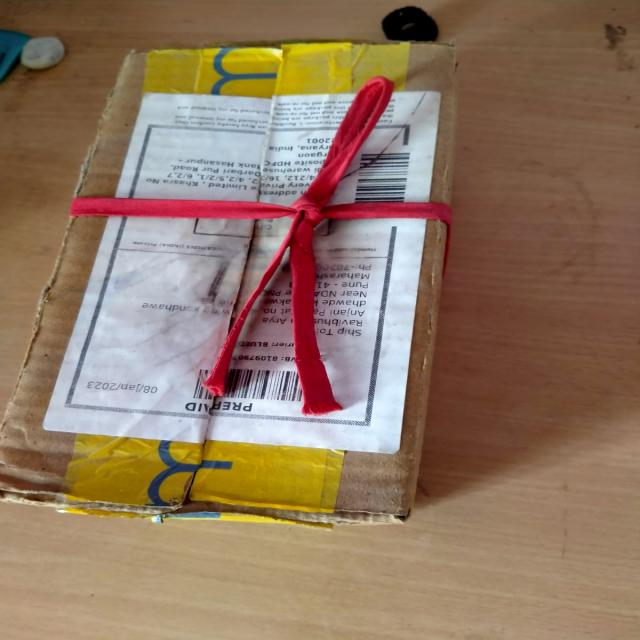Box: (0, 41, 460, 523)
